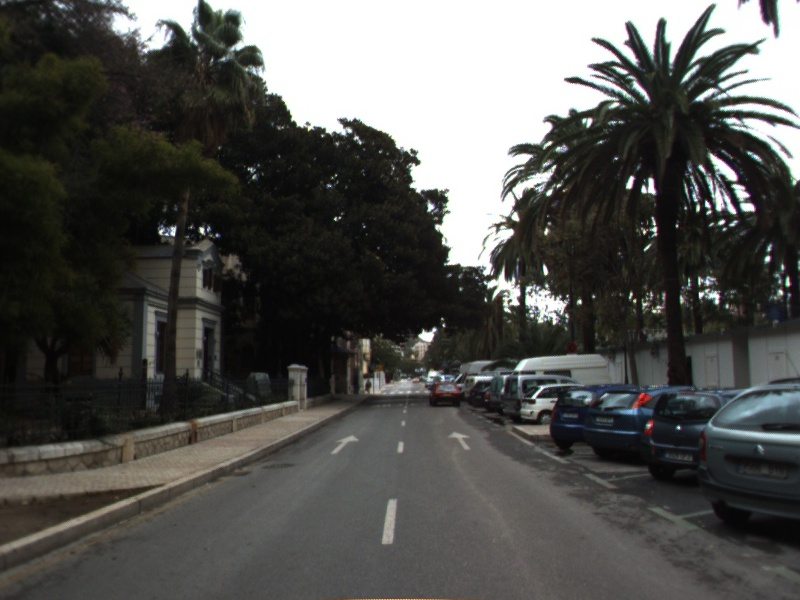STRAIGHT: (328, 433, 361, 456), (446, 430, 473, 452)
